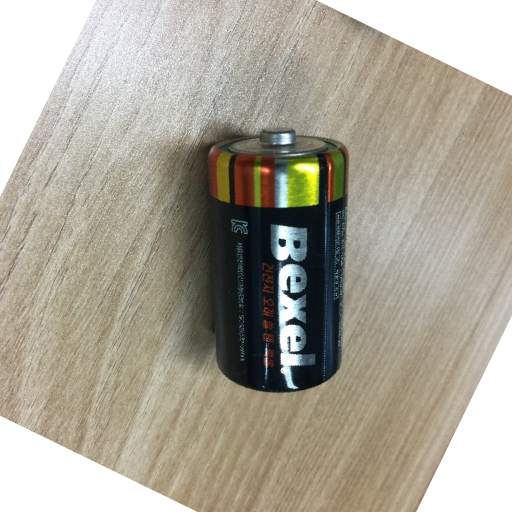Battery_0: (198, 119, 362, 400)
